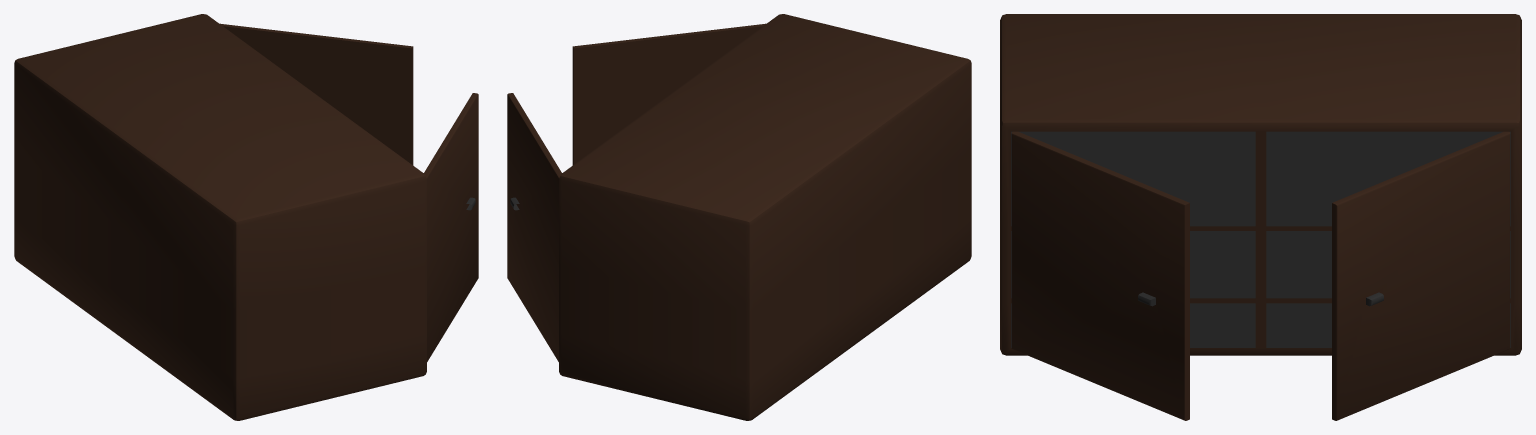
File: Ceiling Cabinet Both Doors open.fbx
3 views of the same model, side by side, from view 1: azimuth 30°, elevation 25°; view 2: azimuth 150°, elevation 25°; view 3: azimuth 270°, elevation 25° (orthographic). The views are drawn at different scales.
Parts seen in each view (by area): view 1: Cabinet Both Doors Open; view 2: Cabinet Both Doors Open; view 3: Cabinet Both Doors Open.
Part boxes in pixels (box(x1,y1,x2,y2)): Cabinet Both Doors Open: box(14, 14, 478, 420); Cabinet Both Doors Open: box(507, 14, 971, 420); Cabinet Both Doors Open: box(1000, 14, 1521, 420).
Bounding box in the file's own units: 166 × 100 × 200.
